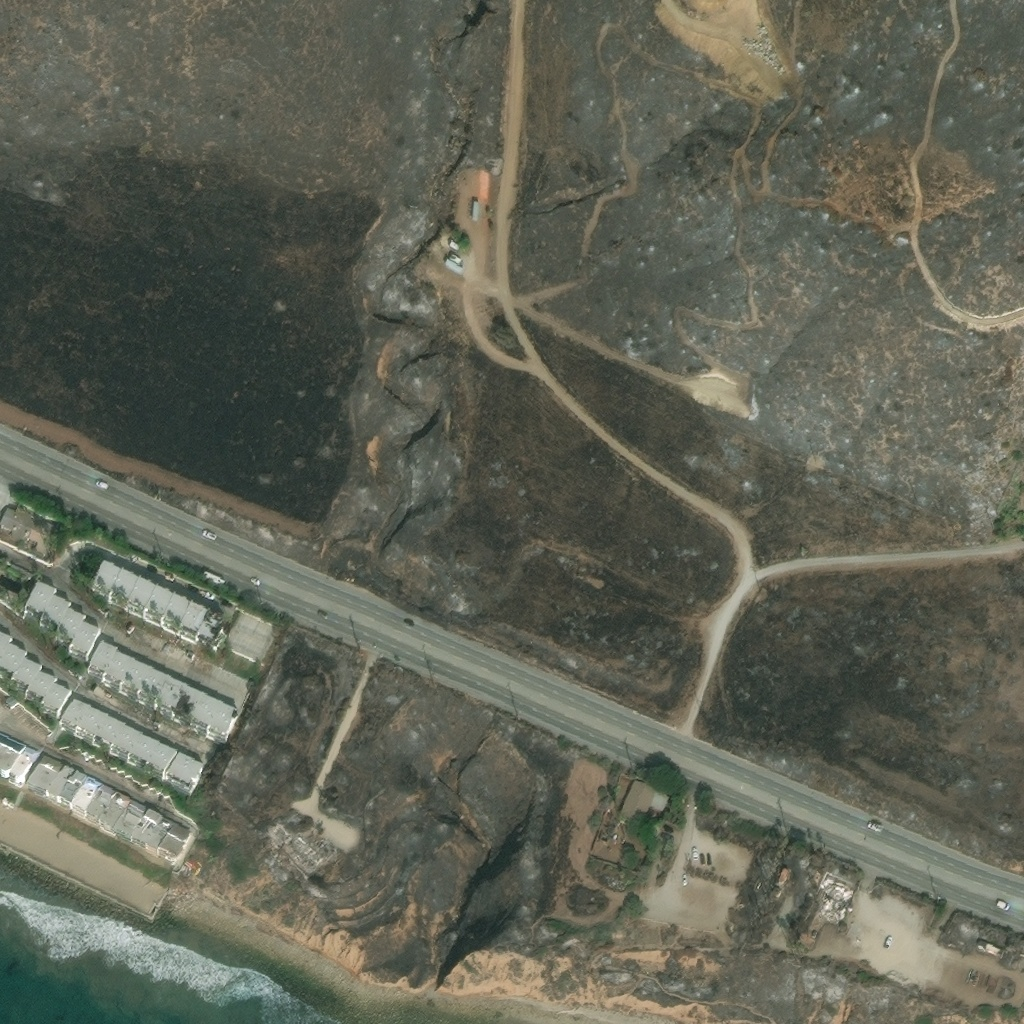0 no-damage: (25, 754, 194, 865), (86, 639, 240, 744), (57, 697, 207, 796), (88, 560, 230, 652), (0, 629, 74, 720), (25, 578, 103, 662), (0, 505, 58, 553), (617, 777, 671, 828), (227, 609, 278, 662), (0, 732, 39, 789), (770, 866, 791, 898), (975, 940, 1005, 959), (443, 254, 463, 274), (480, 168, 490, 197), (471, 201, 479, 221), (448, 241, 459, 251)
3 destroyed: (282, 830, 339, 872), (815, 874, 853, 923), (269, 819, 292, 842), (805, 865, 818, 882)
